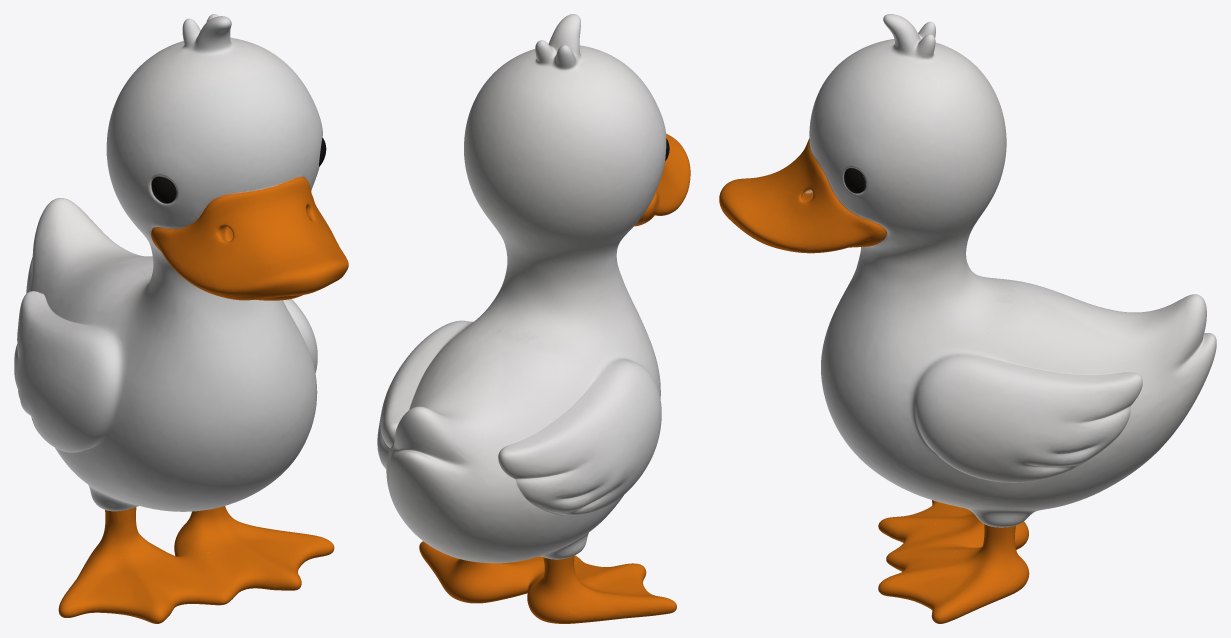
The picture shows the model from 3 angles, left to right: view 1: azimuth 30°, elevation 25°; view 2: azimuth 150°, elevation 25°; view 3: azimuth 270°, elevation 25°; orthographic projection. The views are drawn at different scales.
Size of the model in its own units: 0.9267 by 1.9 by 1.56.
1 material, 1 textured.
